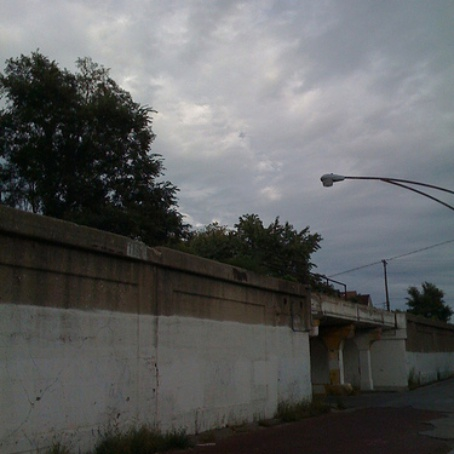building: (1, 228, 409, 454)
sky: (165, 1, 454, 207)
tree: (1, 51, 185, 242)
